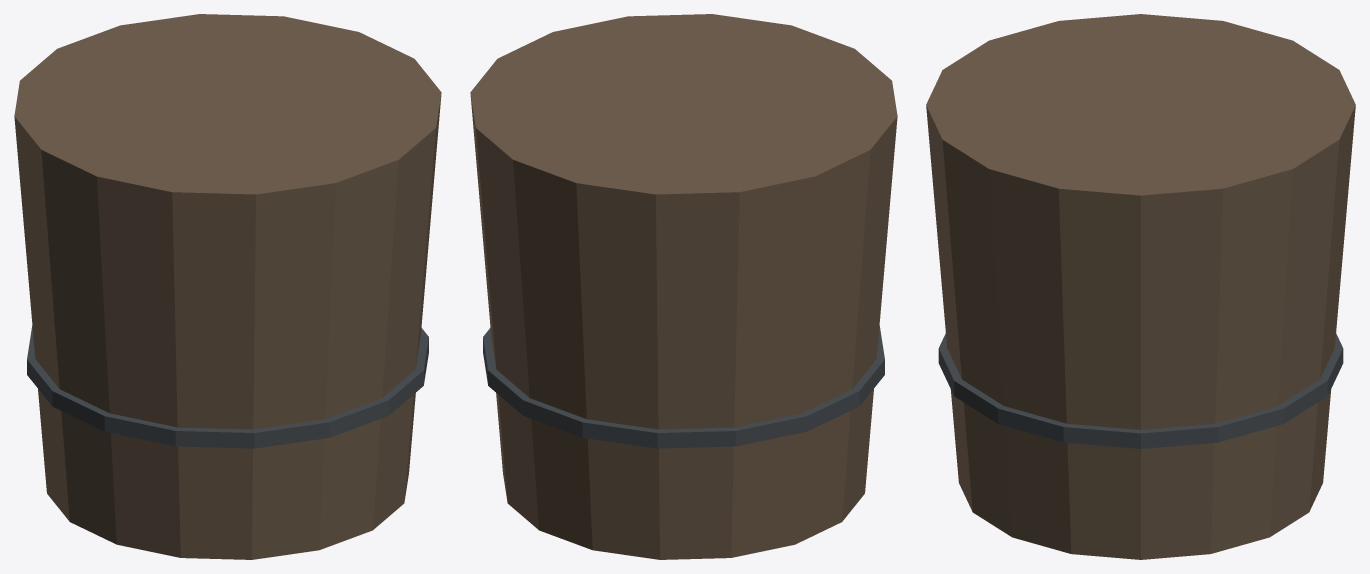
The model's file is dungeon_barrel.glb.
3 renders of one model, left to right at view 1: azimuth 30°, elevation 25°; view 2: azimuth 150°, elevation 25°; view 3: azimuth 270°, elevation 25°, orthographic.
Parts seen in each view (by area): view 1: BarrelStaves, Hoop_1; view 2: BarrelStaves, Hoop_1; view 3: BarrelStaves, Hoop_1.
Part boxes in pixels (x1,y1,x2,y2): BarrelStaves: (14, 14, 441, 559); Hoop_1: (27, 326, 428, 448); BarrelStaves: (470, 14, 897, 559); Hoop_1: (483, 326, 884, 448); BarrelStaves: (926, 14, 1355, 559); Hoop_1: (938, 333, 1343, 448).
Size of the model in its own units: 1.13 by 1.1 by 1.13.
